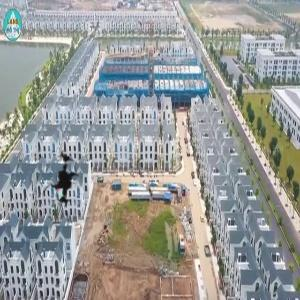drone: (20, 138, 101, 219)
